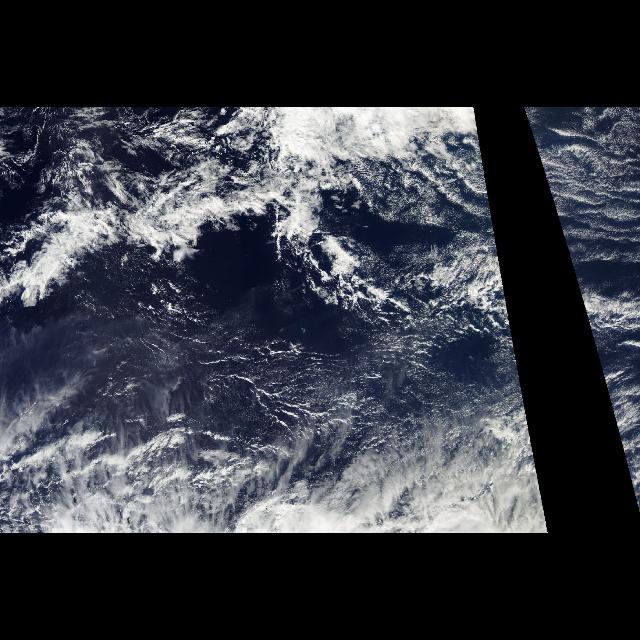Fish: (0, 140, 418, 318)
Sugar: (313, 378, 521, 497), (530, 110, 640, 268)
